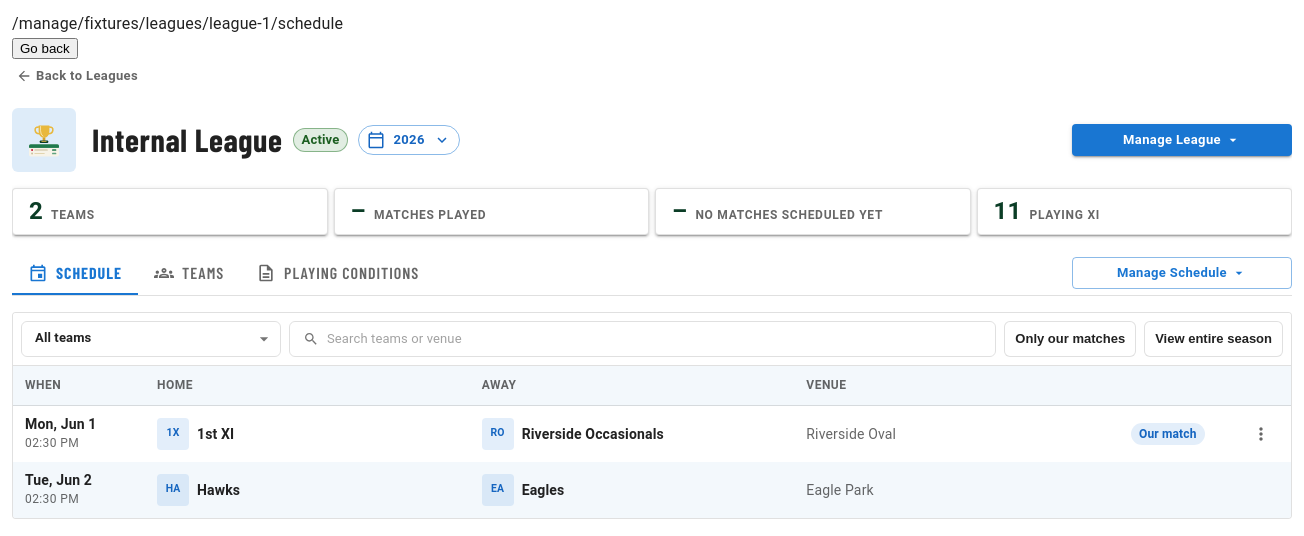
Test: LeagueScheduleView › filters (091) › Only our matches keeps the club-team matches
Click the button "Only our matches" at {"x": 1070, "y": 339}, box [1004,321,1136,357]
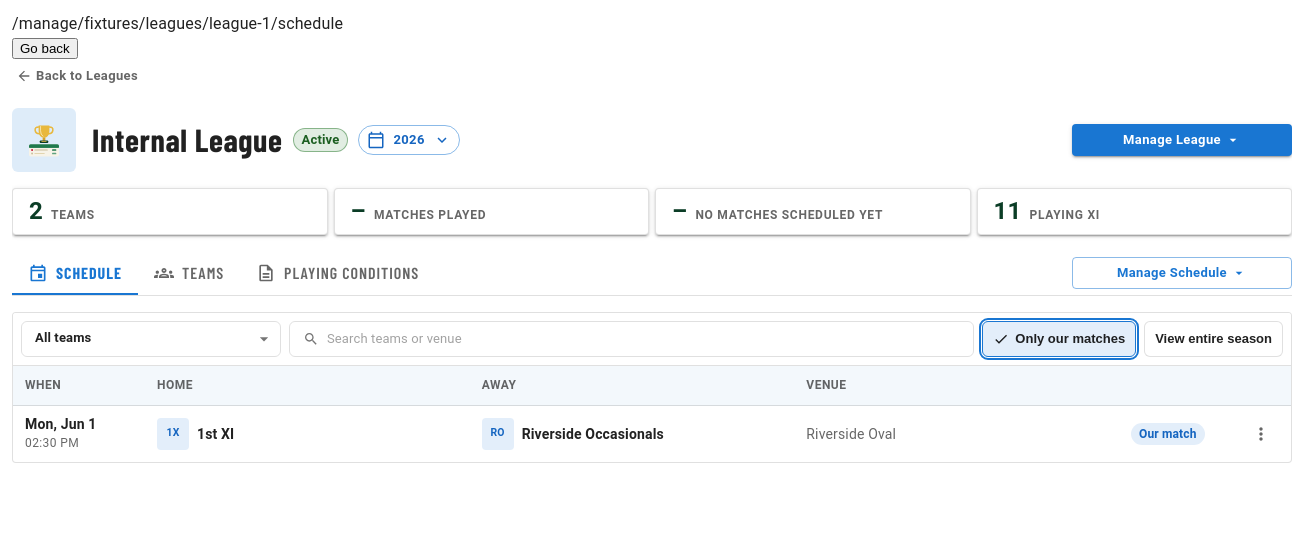
Check: the number of rows with test id "fixture-row" is 1, box [13,406,1291,462]
